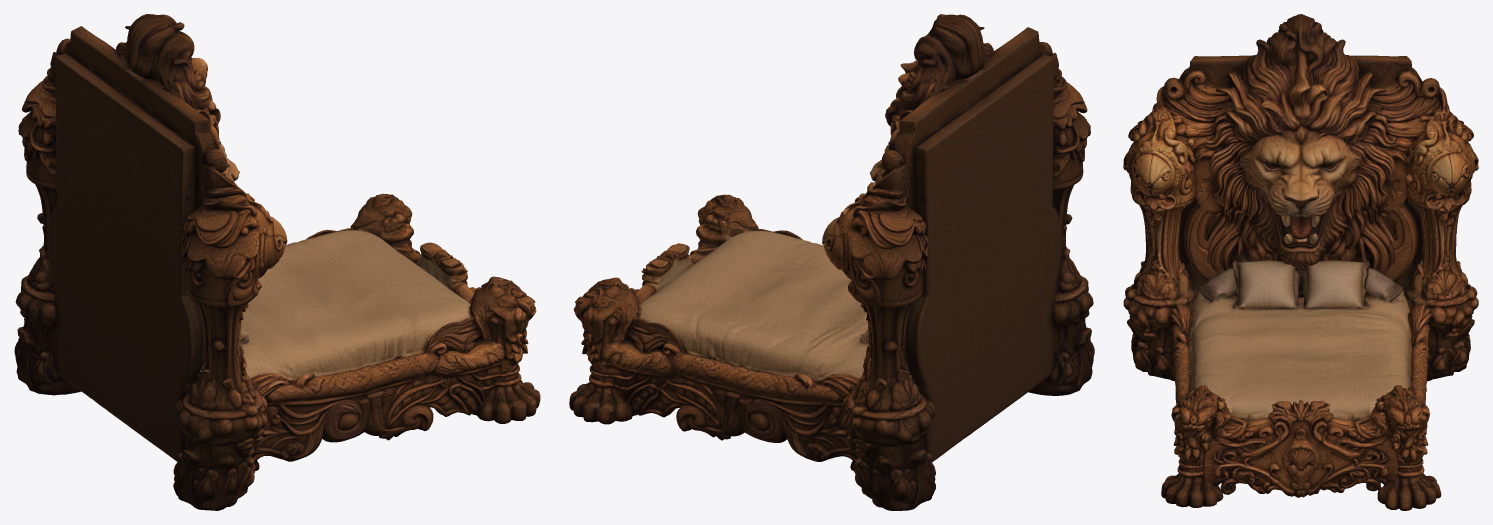
File: lion_bed_wood_pbr_3d_model_free.glb
The picture shows the model from 3 angles, left to right: view 1: azimuth 30°, elevation 25°; view 2: azimuth 150°, elevation 25°; view 3: azimuth 270°, elevation 25°; orthographic projection. The views are drawn at different scales.
Parts seen in each view (by area): view 1: tripo_node_91a6dfa1-0623-43b4-a719-23217dceed29_0; view 2: tripo_node_91a6dfa1-0623-43b4-a719-23217dceed29_0; view 3: tripo_node_91a6dfa1-0623-43b4-a719-23217dceed29_0.
Boxes of the visible parts, x1,y1,x2,y2 form: tripo_node_91a6dfa1-0623-43b4-a719-23217dceed29_0: (14, 14, 540, 510); tripo_node_91a6dfa1-0623-43b4-a719-23217dceed29_0: (569, 14, 1094, 510); tripo_node_91a6dfa1-0623-43b4-a719-23217dceed29_0: (1123, 14, 1478, 510).
Size of the model in its own units: 0.937 by 1 by 0.8964.
1 material, 1 textured.
